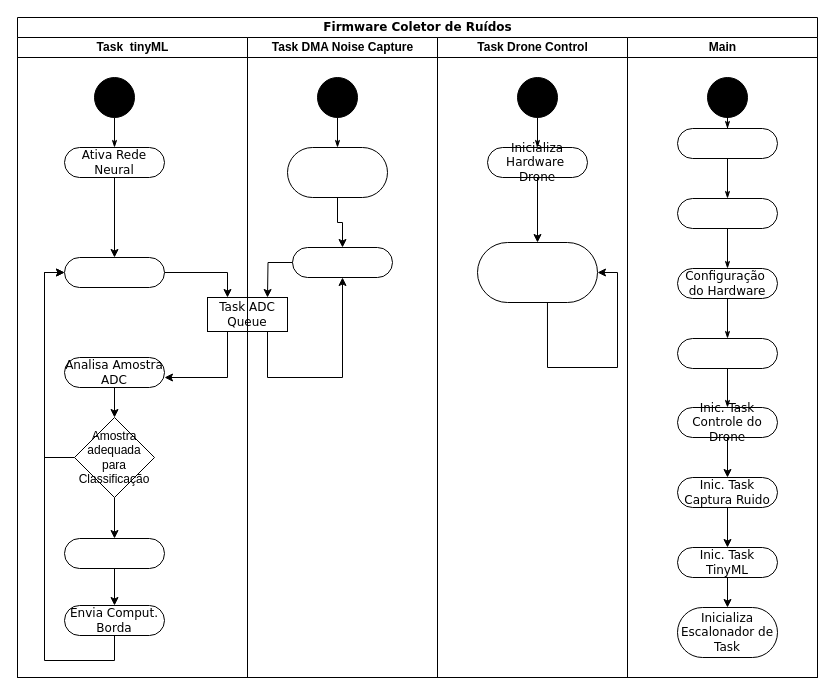
The diagram is 835 pixels wide and 695 high, and some of its shapes have lost their labels. Each missing label, with the box of its shape:
Ativa ADC com amostragem por DMA: (286, 146, 388, 198)
Classifica Amostra: (64, 538, 164, 568)
Configuração Display e VU: (676, 198, 778, 228)
Controle do Drone: (476, 242, 598, 302)
Faz Amostragem ADC: (292, 246, 392, 278)
Inicialização STDIO: (676, 128, 778, 158)
Inicialização Task da Infra de Rede: (676, 338, 778, 368)
Monitora ADC Queue: (64, 256, 164, 288)
